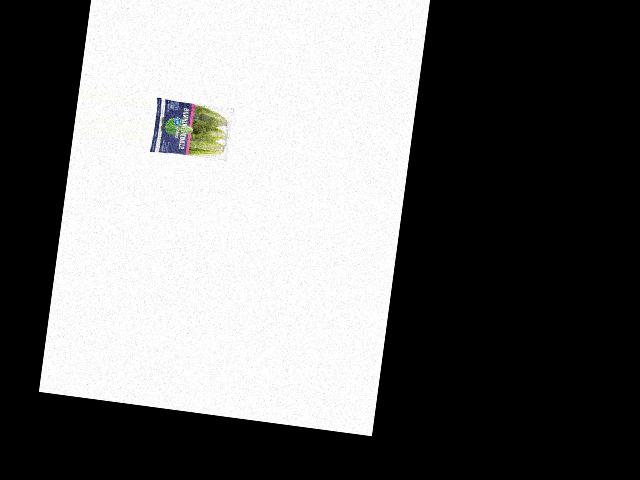lettuce: (151, 95, 232, 164)
